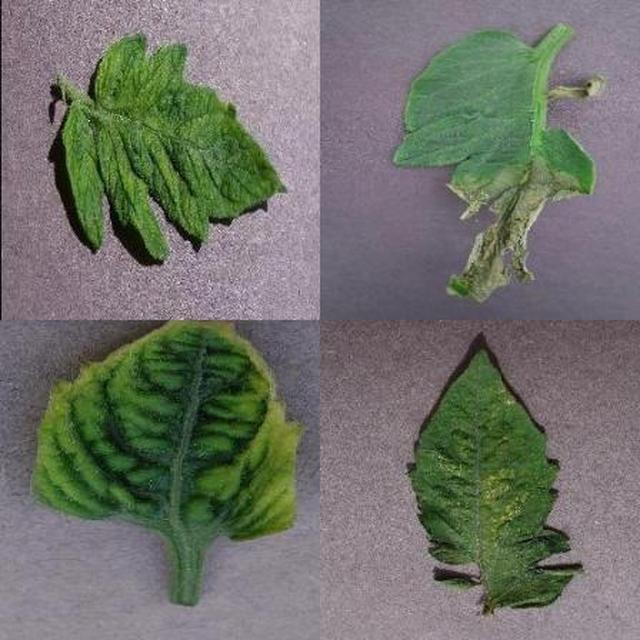Mosaic Virus Leaf: (239, 210, 640, 640)
